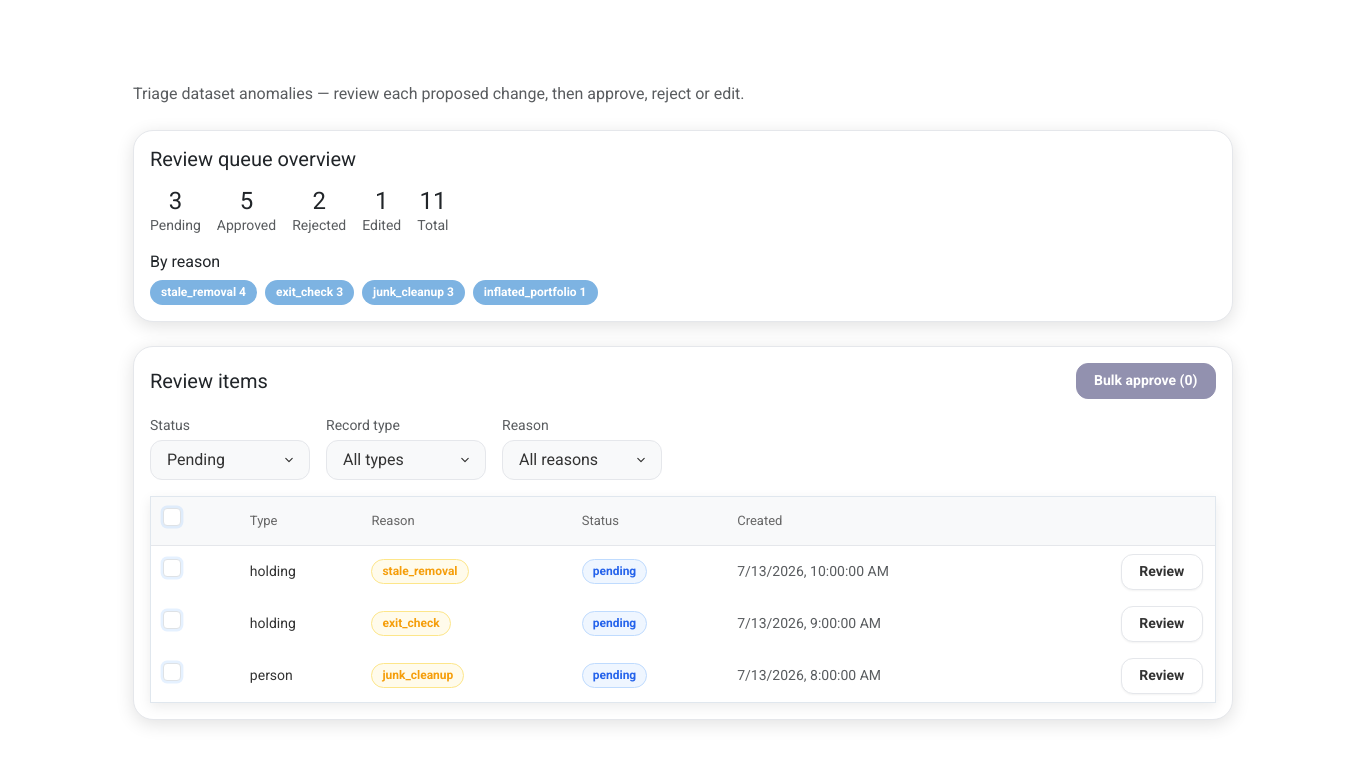
it: PEReviewQueuePage › opens the diff view and marks the changed field
This screenshot has width=1366, height=768.
Click the button "Review" in the row of "7/13/2026, 10:00:00 AM". click: [1162, 572]
box: [1121,554,1203,590]
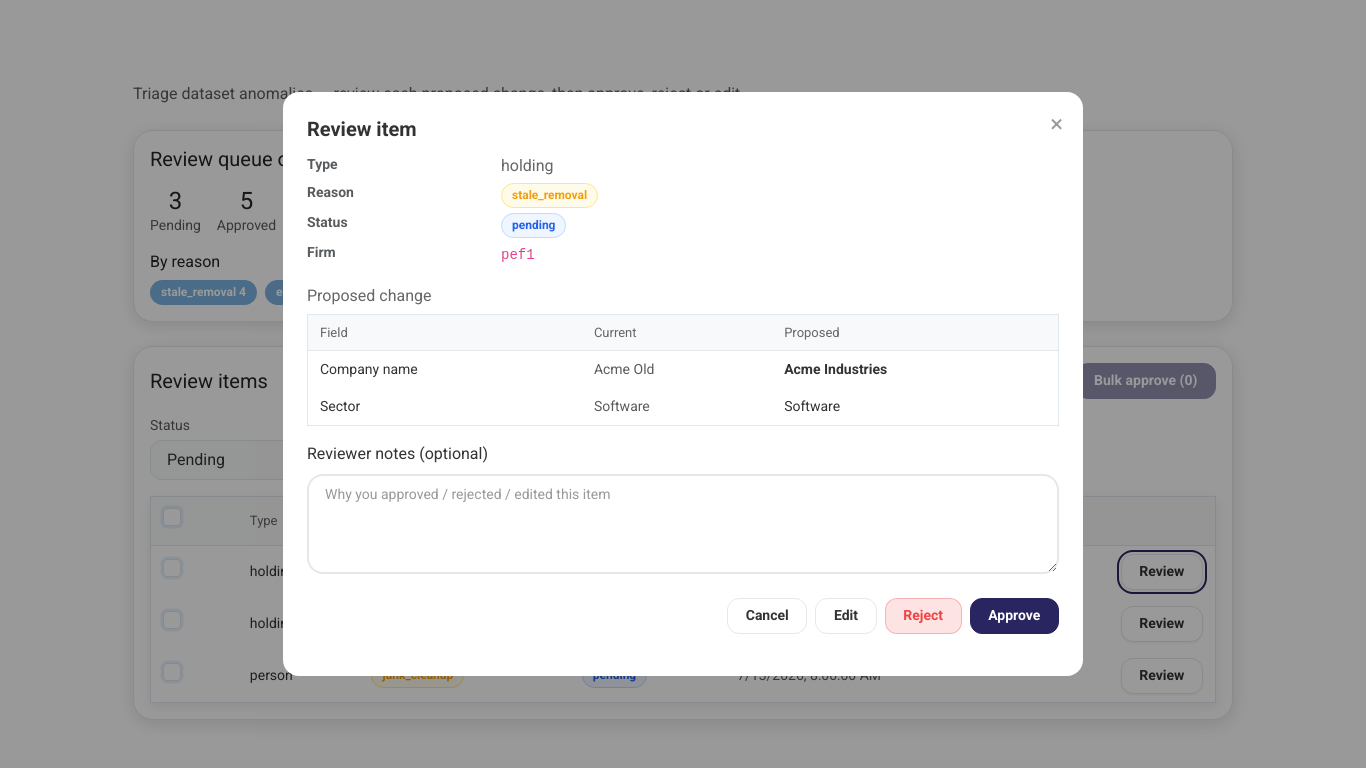
Expected: the heading "Review item" is shown, [307,117,417,141]
Expected: the text "Acme Industries" is shown, [784,361,887,377]
